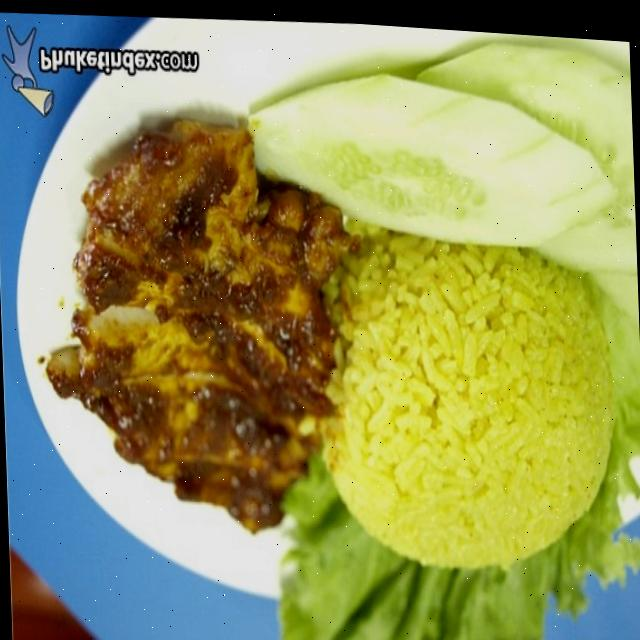米饭主食: (14, 26, 640, 640)
